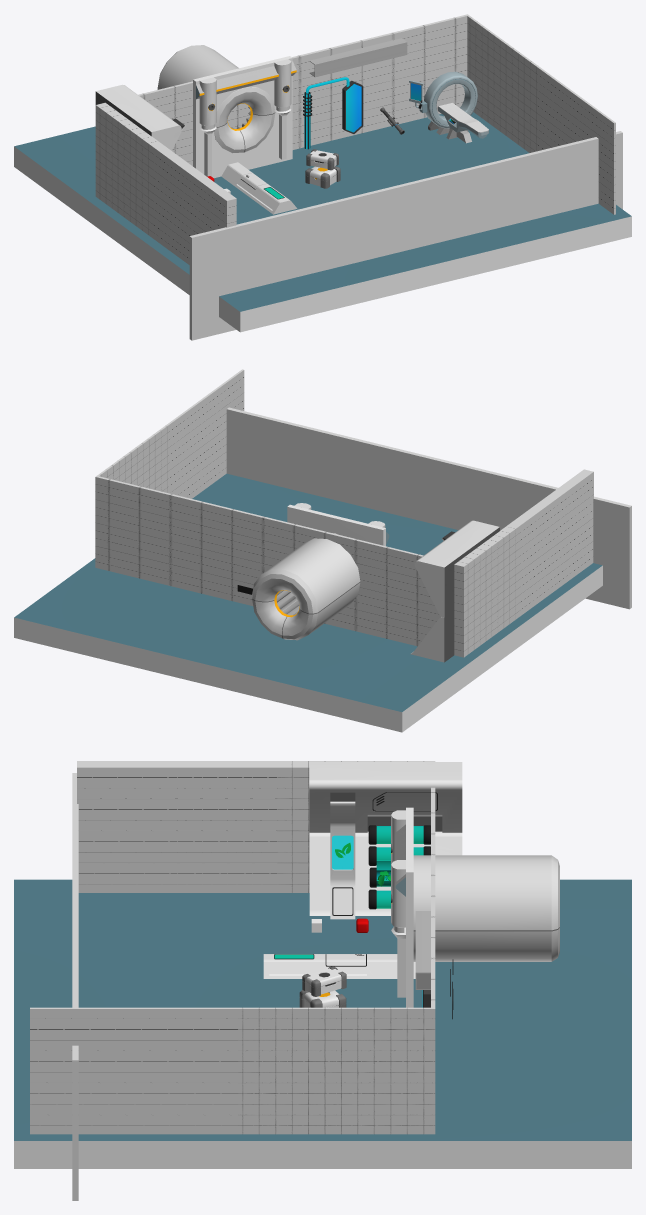
The picture shows the model from 3 angles, top to bottom: view 1: azimuth 30°, elevation 25°; view 2: azimuth 150°, elevation 25°; view 3: azimuth 270°, elevation 25°; orthographic projection. The views are drawn at different scales.
Parts seen in each view (by area): view 1: wall, room_wall_012.001, blocker, wall_decoration_102.001, room_wall_028.001, research_complex_001.001, wall_005.001, pipe_046.001, floor_decoration_029.001, wall_decoration_037.004, wall_decoration_037.001, wall_decoration_034.001 (+3 smaller); view 2: wall, room_wall_012.001, blocker, wall_decoration_102.001, wall_005.001, room_wall_028.001, wall_004.001; view 3: room_wall_012.001, wall, wall_decoration_102.001, wall_005.001, wall_004.001, wall_024.001, floor_decoration_029.001, blocker, room_wall_028.001, wall_decoration_037.004, pipe_046.001, box_006.015 (+2 smaller).
Part boxes in pixels (x1,y1,x2,y2): wall: (95,14,615,264); room_wall_012.001: (14,112,631,332); blocker: (189,131,622,340); wall_decoration_102.001: (157,45,275,153); room_wall_028.001: (193,56,292,178); research_complex_001.001: (409,71,488,143); wall_005.001: (95,84,181,150); pipe_046.001: (309,38,407,77); floor_decoration_029.001: (221,162,297,214); wall_decoration_037.004: (274,59,291,159); wall_decoration_037.001: (199,77,216,176); wall_decoration_034.001: (196,61,296,99); wall: (95,369,593,657); room_wall_012.001: (14,473,602,732); blocker: (226,407,631,609); wall_decoration_102.001: (252,533,360,640); wall_005.001: (414,520,499,617); room_wall_028.001: (287,504,385,546); wall_004.001: (410,611,454,662); room_wall_012.001: (14,879,631,1168); wall: (30,761,435,1134); wall_decoration_102.001: (413,855,559,961); wall_005.001: (309,762,462,832); wall_004.001: (309,831,462,915); wall_024.001: (330,792,355,919); floor_decoration_029.001: (263,954,415,978); blocker: (72,773,78,1200); room_wall_028.001: (406,807,413,1007); wall_decoration_037.004: (391,860,405,997); pipe_046.001: (415,911,430,989); box_006.015: (302,966,346,996).
Size of the model in its own units: 17.8 by 5.48 by 16.17.
Materials: 23 (19 with a texture image).
